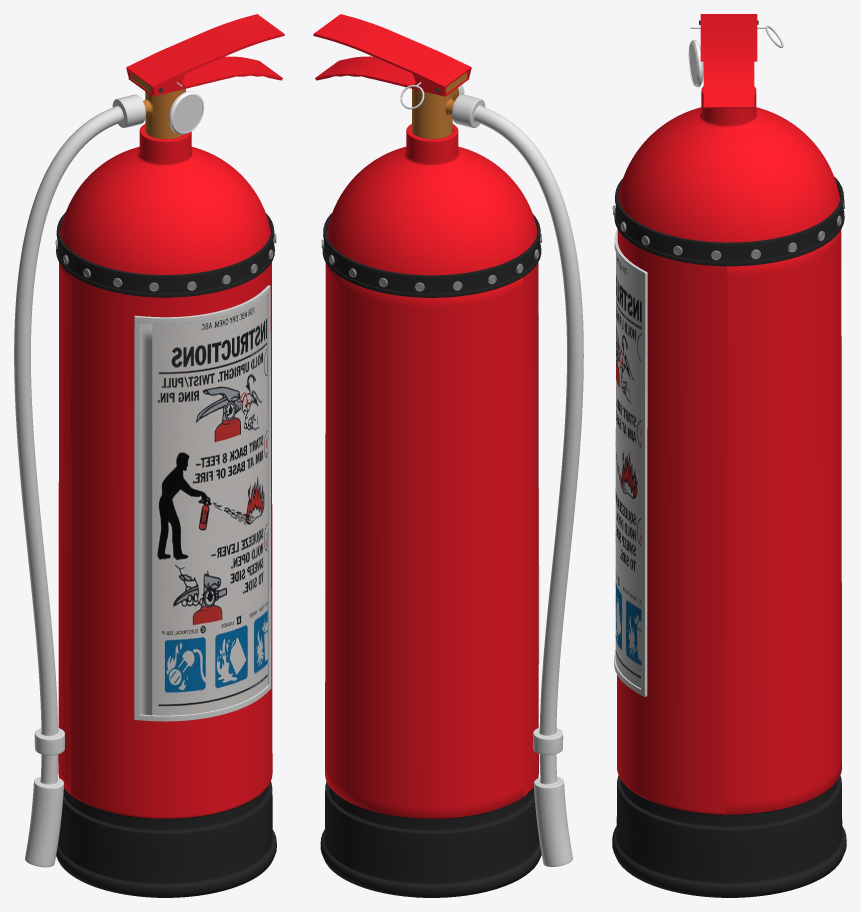
Rendered from uploads_files_3608399_capsule.fbx.
3 views of the same model, side by side, from view 1: azimuth 30°, elevation 25°; view 2: azimuth 150°, elevation 25°; view 3: azimuth 270°, elevation 25° (orthographic). The views are drawn at different scales.
Parts seen in each view (by area): view 1: Sphere.009, Sphere.012, Sphere, Sphere.011, NurbsPath.002, Sphere.013, Sphere.010, Sphere.007, Plane.003, Plane.002, Cylinder, Cylinder.021; view 2: Sphere.013, Sphere, Sphere.011, NurbsPath.002, Sphere.009, Sphere.007, Plane.003, Plane.002, Cylinder; view 3: Sphere.013, Sphere.009, Sphere, Sphere.011, Sphere.012, Sphere.007, Sphere.010, Plane.003, Plane.002.
Part boxes in pixels (<box>): Sphere.009: <box>70,262,272,818</box>; Sphere.012: <box>140,295,267,715</box>; Sphere: <box>60,124,270,274</box>; Sphere.011: <box>56,781,276,897</box>; NurbsPath.002: <box>14,94,145,867</box>; Sphere.013: <box>58,262,71,794</box>; Sphere.010: <box>134,285,271,721</box>; Sphere.007: <box>56,212,274,297</box>; Plane.003: <box>126,14,284,95</box>; Plane.002: <box>128,56,282,96</box>; Cylinder: <box>143,89,185,138</box>; Cylinder.021: <box>173,95,202,132</box>; Sphere.013: <box>325,263,523,818</box>; Sphere: <box>326,124,537,275</box>; Sphere.011: <box>320,773,541,897</box>; NurbsPath.002: <box>452,94,583,866</box>; Sphere.009: <box>523,263,538,796</box>; Sphere.007: <box>322,213,541,297</box>; Plane.003: <box>313,14,471,95</box>; Plane.002: <box>315,56,469,96</box>; Cylinder: <box>412,88,458,138</box>; Sphere.013: <box>726,229,841,814</box>; Sphere.009: <box>617,229,726,814</box>; Sphere: <box>618,86,839,242</box>; Sphere.011: <box>612,775,846,897</box>; Sphere.012: <box>615,253,641,688</box>; Sphere.007: <box>614,176,844,266</box>; Sphere.010: <box>614,229,647,696</box>; Plane.003: <box>700,14,757,61</box>; Plane.002: <box>703,61,754,108</box>.
Size of the model in its own units: 148 by 444 by 111.
